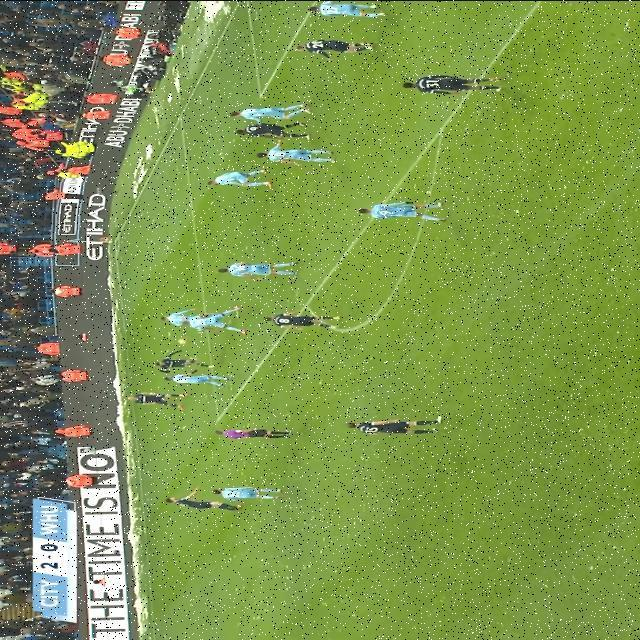ball: (172, 332, 196, 350)
player: (397, 70, 517, 100), (338, 410, 450, 442), (225, 95, 325, 125), (182, 301, 262, 333), (351, 197, 455, 221), (256, 140, 342, 168), (224, 119, 324, 143), (291, 36, 387, 58), (208, 483, 294, 505), (298, 0, 403, 18), (116, 389, 204, 409), (261, 310, 353, 328), (162, 495, 242, 515), (203, 169, 283, 189), (211, 260, 299, 276), (164, 369, 232, 389), (147, 353, 217, 369), (151, 310, 214, 326)
referee: (211, 425, 300, 447)
